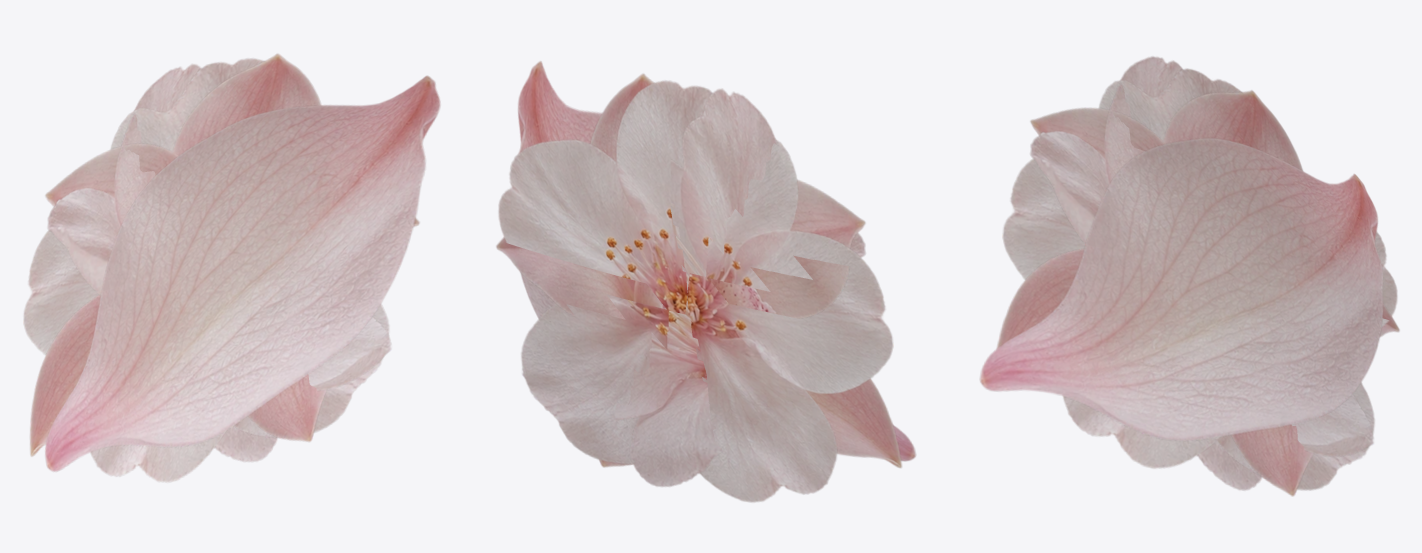
Rendered from blossoms.glb.
3 views of the same model, side by side, from view 1: azimuth 30°, elevation 25°; view 2: azimuth 150°, elevation 25°; view 3: azimuth 330°, elevation 25° (orthographic).
Parts seen in each view (by area): view 1: petal, orchid, sakura, sakura-side; view 2: sakura, sakura-side, orchid, petal; view 3: petal, sakura, orchid, sakura-side.
Part boxes in pixels (left/top/right/bottom): petal: left=45, top=75, right=440, bottom=471; orchid: left=30, top=53, right=419, bottom=456; sakura: left=23, top=58, right=389, bottom=482; sakura-side: left=47, top=64, right=391, bottom=461; sakura: left=498, top=80, right=893, bottom=502; sakura-side: left=522, top=88, right=865, bottom=486; orchid: left=496, top=73, right=901, bottom=467; petal: left=518, top=61, right=915, bottom=461; petal: left=979, top=138, right=1383, bottom=440; sakura: left=1002, top=68, right=1397, bottom=490; orchid: left=996, top=90, right=1399, bottom=496; sakura-side: left=1030, top=56, right=1373, bottom=490.
Size of the model in its own units: 1 by 1 by 0.17.
4 materials, 4 textured.
